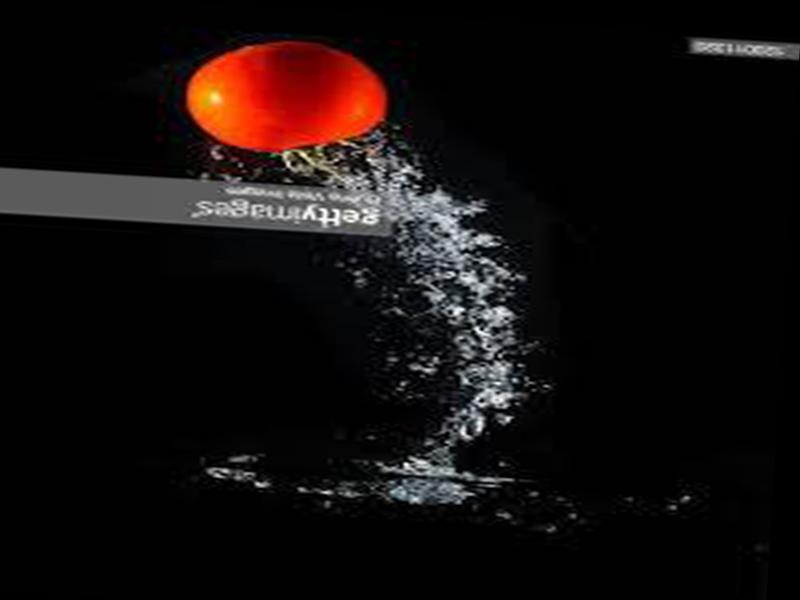Tomato: (183, 39, 392, 159)
